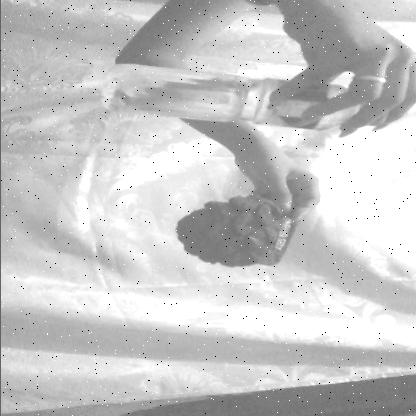Plastic Bottle: (45, 51, 399, 153)
